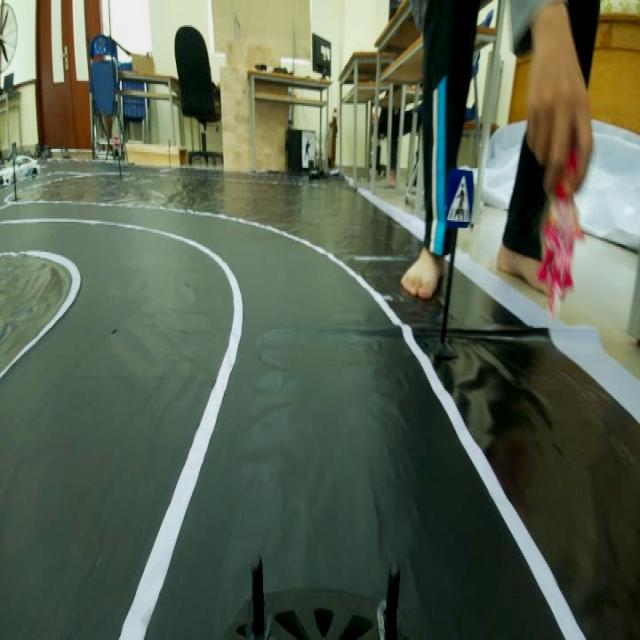crosswalk: (444, 166, 476, 233)
